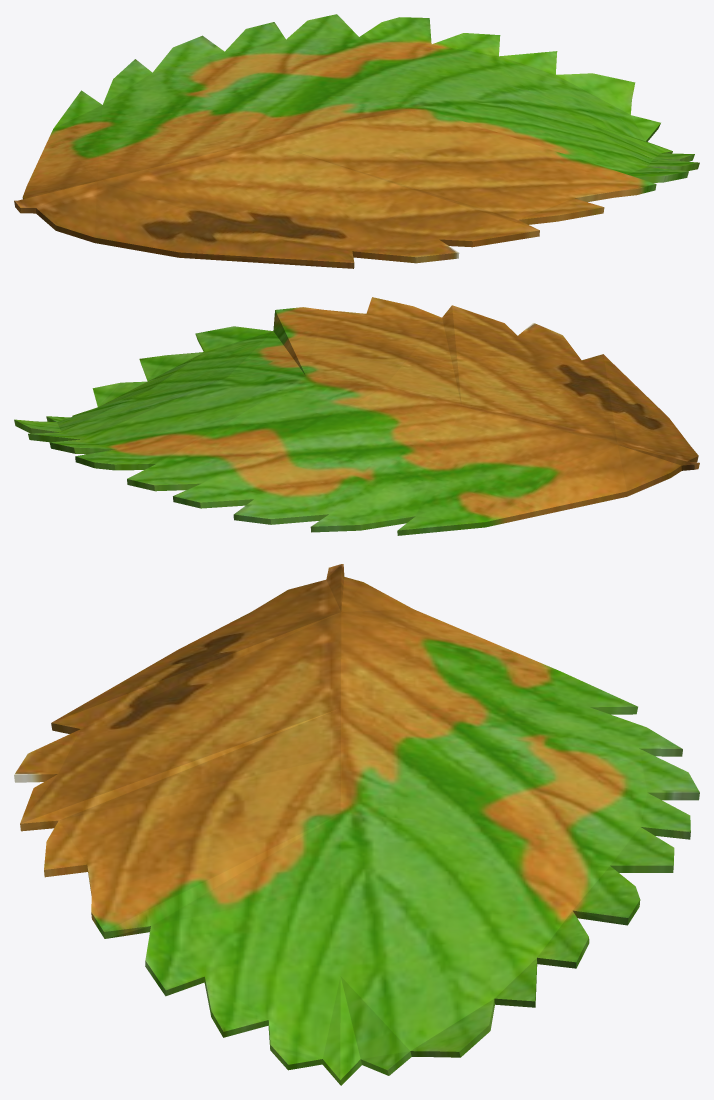
The model's file is leaf4_s3.dae.
The picture shows the model from 3 angles, top to bottom: view 1: azimuth 30°, elevation 25°; view 2: azimuth 150°, elevation 25°; view 3: azimuth 270°, elevation 25°; orthographic projection. The views are drawn at different scales.
Visible parts, largest first — view 1: Plane; view 2: Plane; view 3: Plane.
Boxes of the visible parts, x1,y1,x2,y2 form: Plane: [14, 14, 699, 268]; Plane: [14, 297, 699, 535]; Plane: [14, 564, 699, 1085].
Bounding box in the file's own units: 0.1374 × 0.1018 × 0.0227.
1 material, 1 textured.
